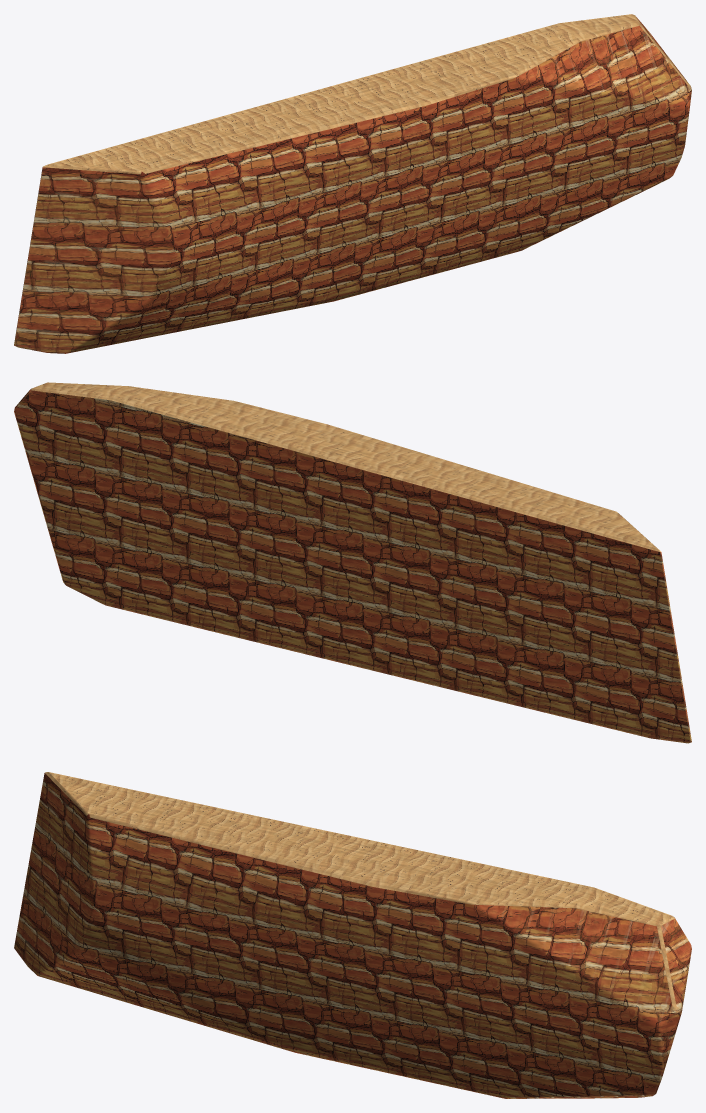
Rendered from v4_cliff_s_03.glb.
3 renders of one model, top to bottom at view 1: azimuth 30°, elevation 25°; view 2: azimuth 150°, elevation 25°; view 3: azimuth 330°, elevation 25°, orthographic. The views are drawn at different scales.
Parts seen in each view (by area): view 1: v4_cliff_s_03; view 2: v4_cliff_s_03; view 3: v4_cliff_s_03.
Part boxes in pixels (x1,y1,x2,y2): v4_cliff_s_03: (14, 14, 691, 353); v4_cliff_s_03: (14, 382, 691, 743); v4_cliff_s_03: (14, 772, 691, 1098).
Bounding box in the file's own units: 20.73 × 5.97 × 2.4.
1 material, 1 textured.
